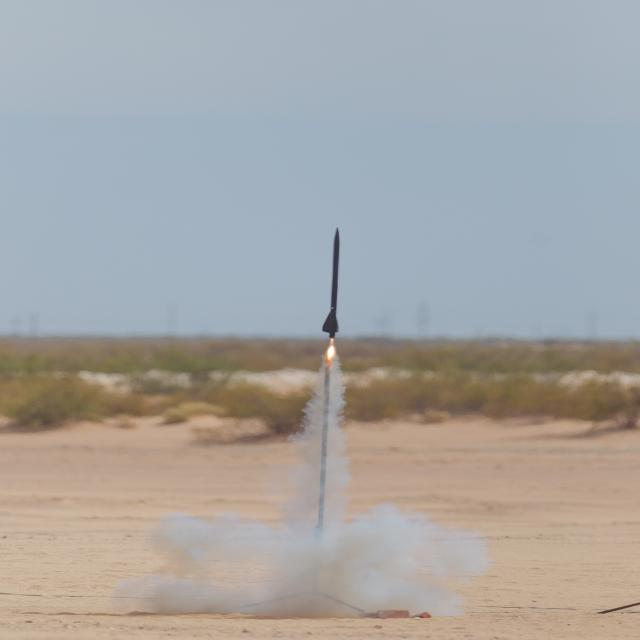Rocket: (322, 226, 341, 338)
